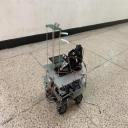cart: (42, 60, 88, 116)
